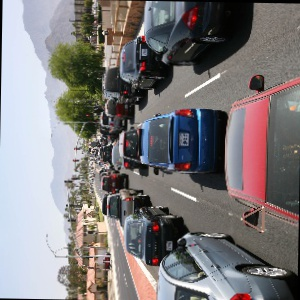triangle: (240, 205, 270, 234)
